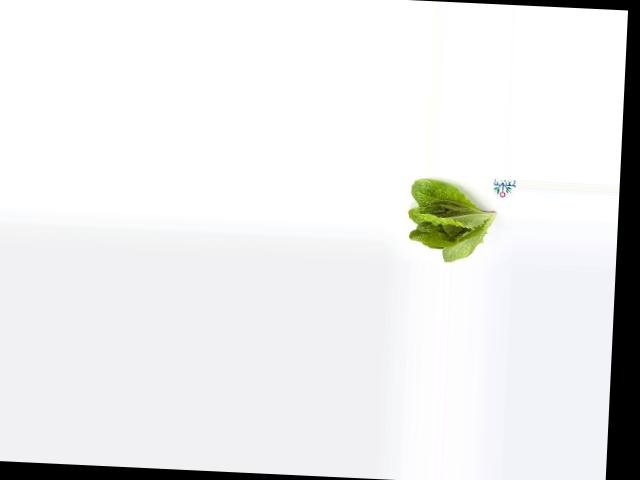lettuce: (403, 179, 497, 265)
